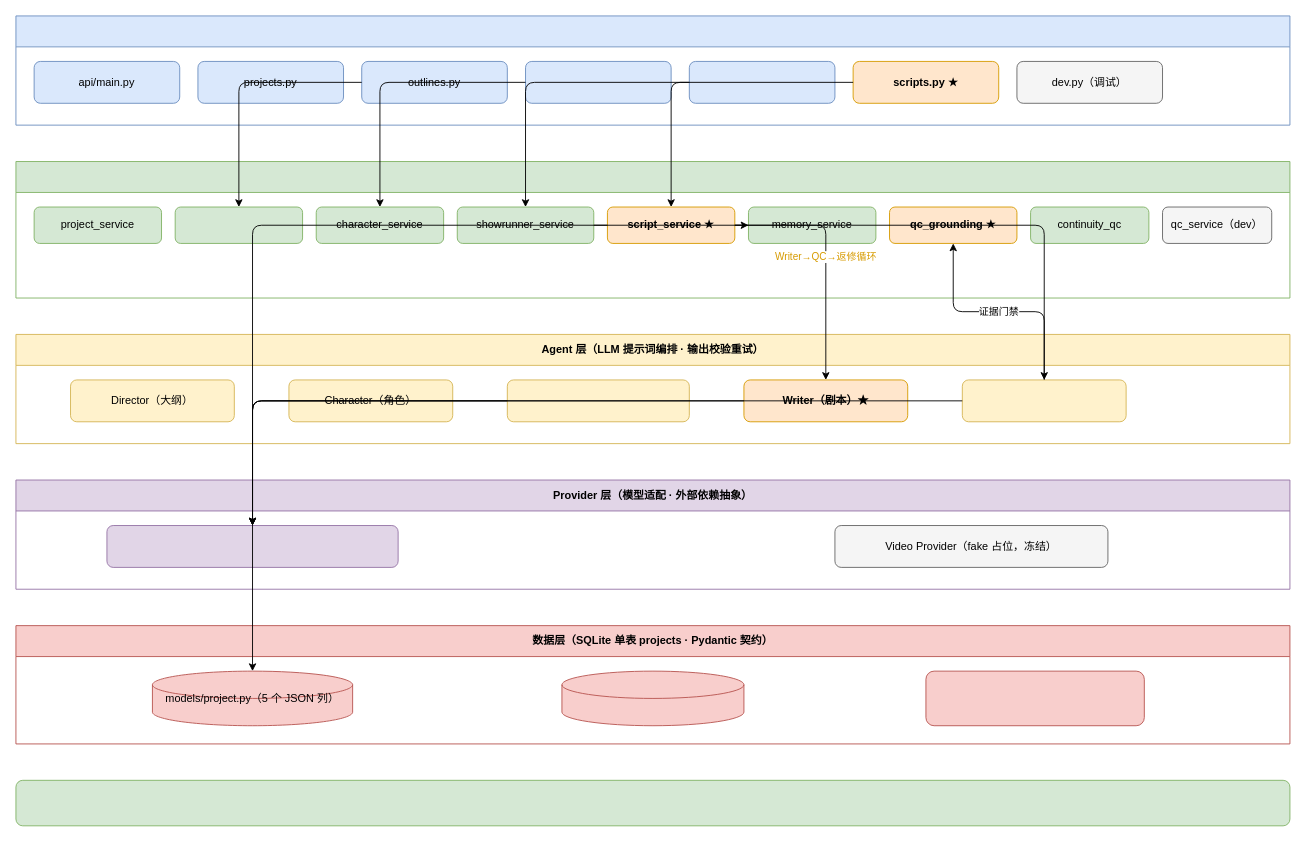
This 1306x842 diagram has some shape labels left out. Each missing label, with the box of its shape:
API 层（FastAPI 路由 · 参数校验 · 异常→HTTP）: (15, 15, 1290, 125)
characters.py: (525, 61, 671, 103)
LLM Provider（DeepSeek V4 Flash + factory）: (106, 525, 398, 567)
observability/（JSONL 日志 · request_id 全链路）: (15, 779, 1290, 826)
outline_service: (174, 206, 303, 243)
QC（质检）: (961, 379, 1126, 422)
schemas/（Pydantic 强校验）: (925, 670, 1144, 726)
Service 层（业务编排 · 合同构造 · 证据门禁）: (15, 161, 1290, 298)
showrunner.py: (688, 61, 835, 103)
Showrunner（总控/Brief）: (506, 379, 689, 422)
SQLite（data/app.db）: (561, 670, 744, 726)
